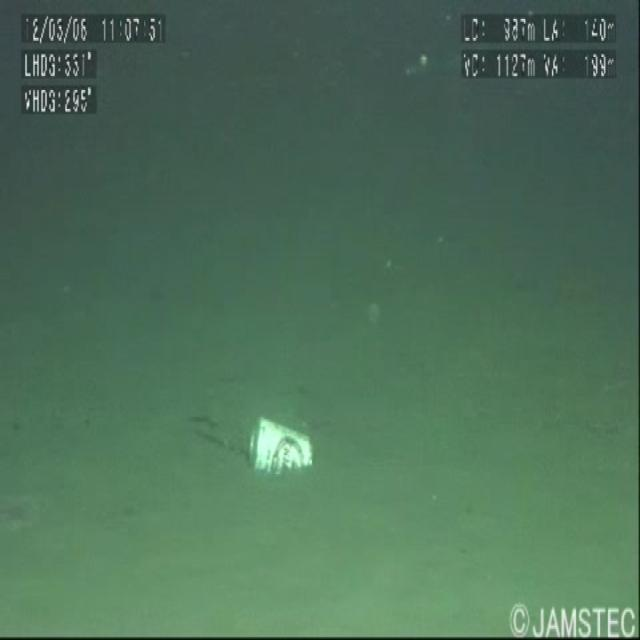Metal: (240, 378, 334, 520)
